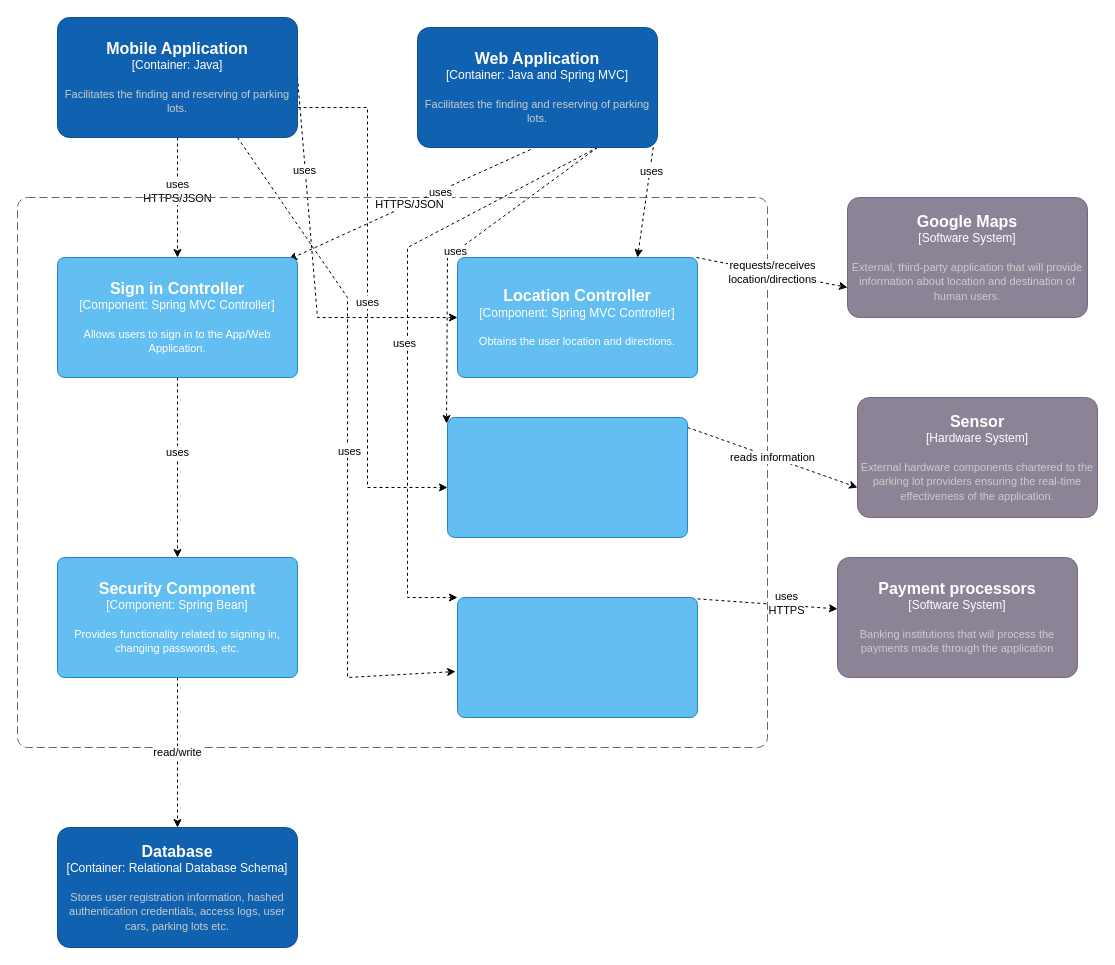
This 1115x965 diagram has some shape labels left out. Here are the shapes that lost their labels. From the top down, the box of each, then its label:
(16, 196, 768, 748): API Application [Container]
(446, 416, 688, 538): Sensor Controller [Component: Spring Bean] Obtains informations from sensors
(456, 596, 698, 718): Payment Controller [Component: Spring Bean] Manages the payment process.
